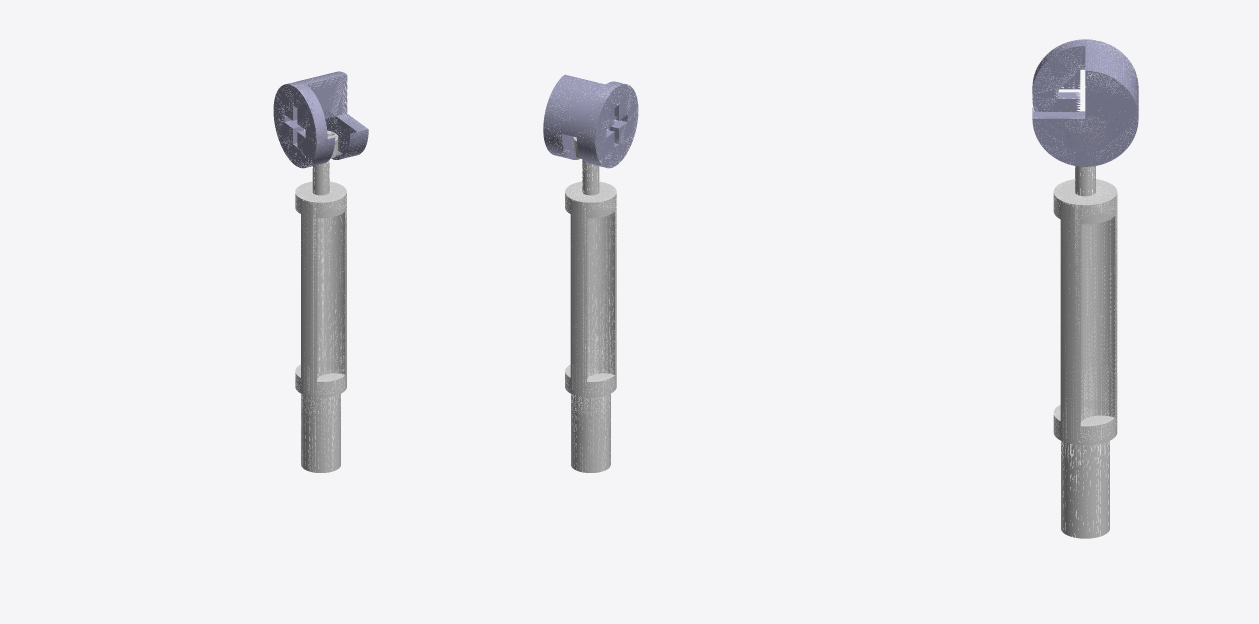
File: connected.gltf
The picture shows the model from 3 angles, left to right: view 1: azimuth 30°, elevation 25°; view 2: azimuth 150°, elevation 25°; view 3: azimuth 270°, elevation 25°; orthographic projection. The views are drawn at different scales.
Parts seen in each view (by area): view 1: connected.fastener.screw, connected.fastener.anchor; view 2: connected.fastener.screw, connected.fastener.anchor; view 3: connected.fastener.screw, connected.fastener.anchor.
Boxes of the visible parts, x1,y1,x2,y2 form: connected.fastener.screw: (295,130,346,472); connected.fastener.anchor: (273,71,368,168); connected.fastener.screw: (565,131,616,472); connected.fastener.anchor: (543,74,638,168); connected.fastener.screw: (1053,116,1117,538); connected.fastener.anchor: (1032,39,1138,166).
Bounding box in the file's own units: 0.04 × 0.055 × 0.03.
